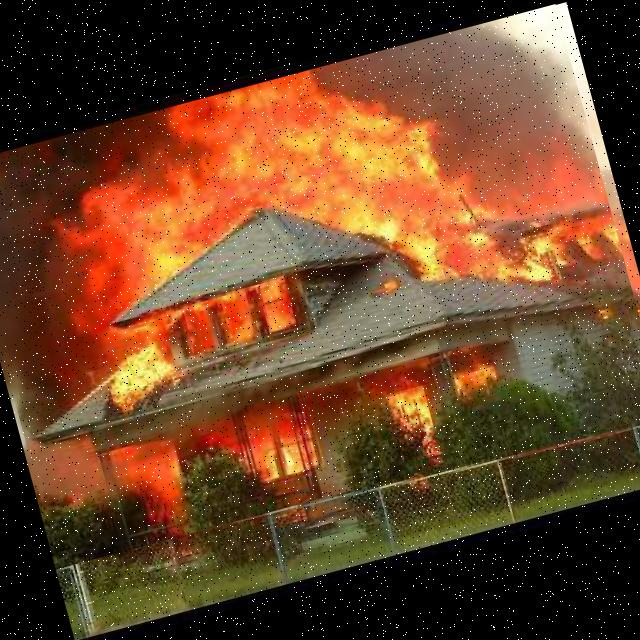fire: (0, 3, 640, 568)
